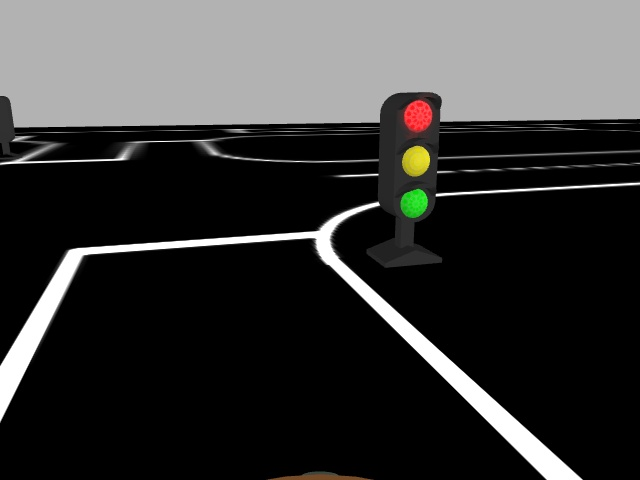red_light: (377, 91, 442, 223)
